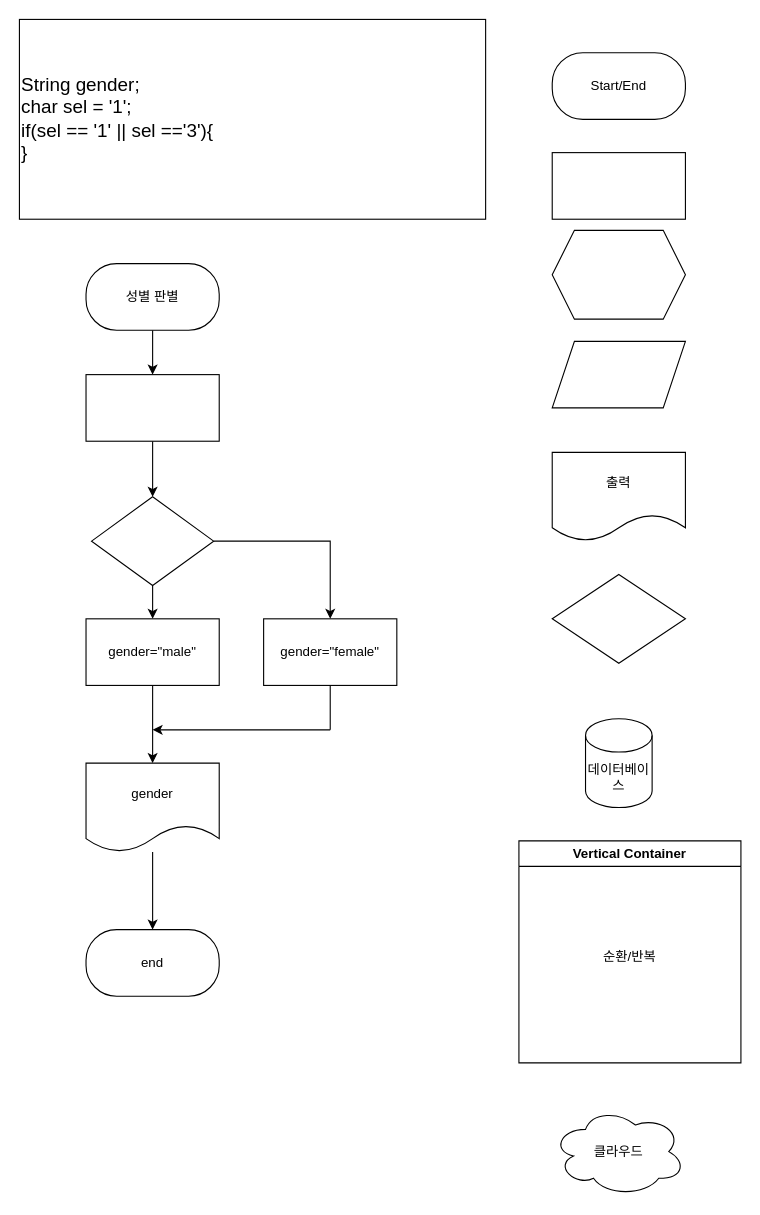
Some shapes in this 760 by 1215 pixel diagram are drawn without their labels. The centre of each missing label's shape, as x and y in pixels:
"sel == 1 || sel ==3" goes at point 152,541.
"String gender; char sel = '1';" goes at point 152,407.
"비교/판단/" goes at point 618,618.
"선언문/준비" goes at point 618,274.
"실행문/대입문/선언문" goes at point 618,185.
"입력" goes at point 618,374.
